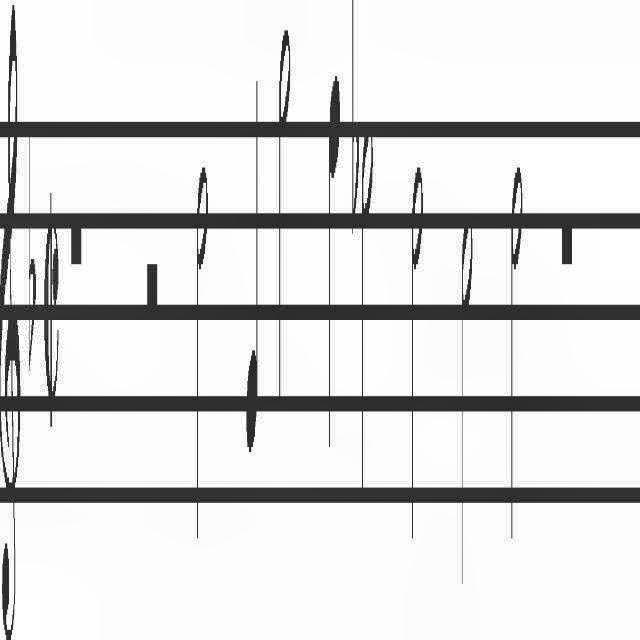Bass-clef: (0, 0, 20, 640)
Bemol: (27, 105, 37, 383), (349, 0, 359, 224)
Half-note: (194, 149, 210, 557), (276, 6, 292, 410), (509, 163, 523, 543), (461, 201, 474, 607), (360, 108, 372, 530), (410, 150, 422, 550)
Quarter-note: (326, 62, 342, 460), (246, 52, 260, 460)
